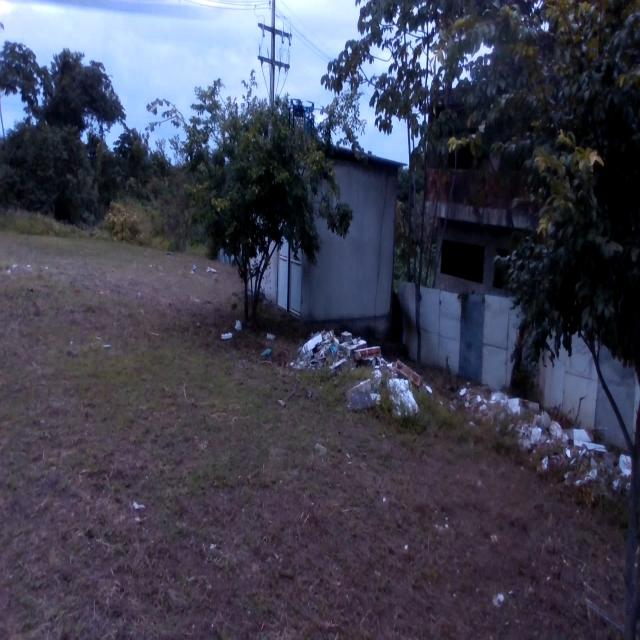-uav-: (280, 92, 326, 144)
